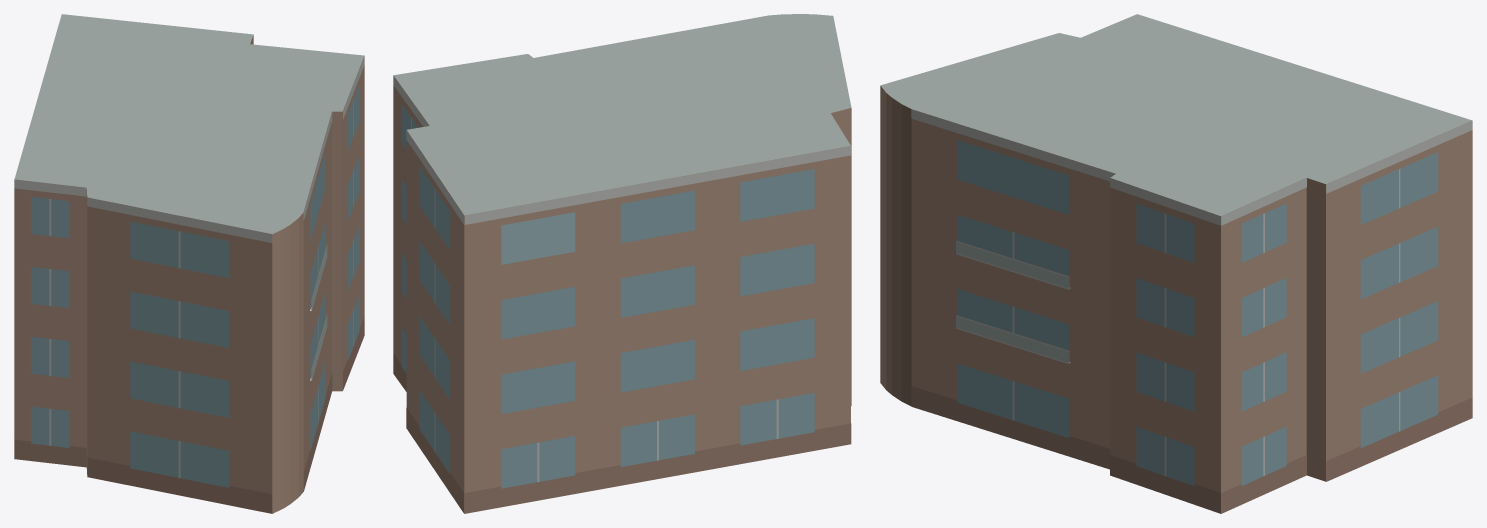
The model's file is survey-upis-33021942.glb.
3 views of the same model, side by side, from view 1: azimuth 30°, elevation 25°; view 2: azimuth 150°, elevation 25°; view 3: azimuth 270°, elevation 25° (orthographic). The views are drawn at different scales.
Parts seen in each view (by area): view 1: survey-upis-33021942.tmp; view 2: survey-upis-33021942.tmp; view 3: survey-upis-33021942.tmp.
Part boxes in pixels (x1,y1,x2,y2): survey-upis-33021942.tmp: (14,14,364,513); survey-upis-33021942.tmp: (393,14,851,513); survey-upis-33021942.tmp: (880,14,1472,513).
Bounding box in the file's own units: 11.09 × 7.6 × 13.72.
